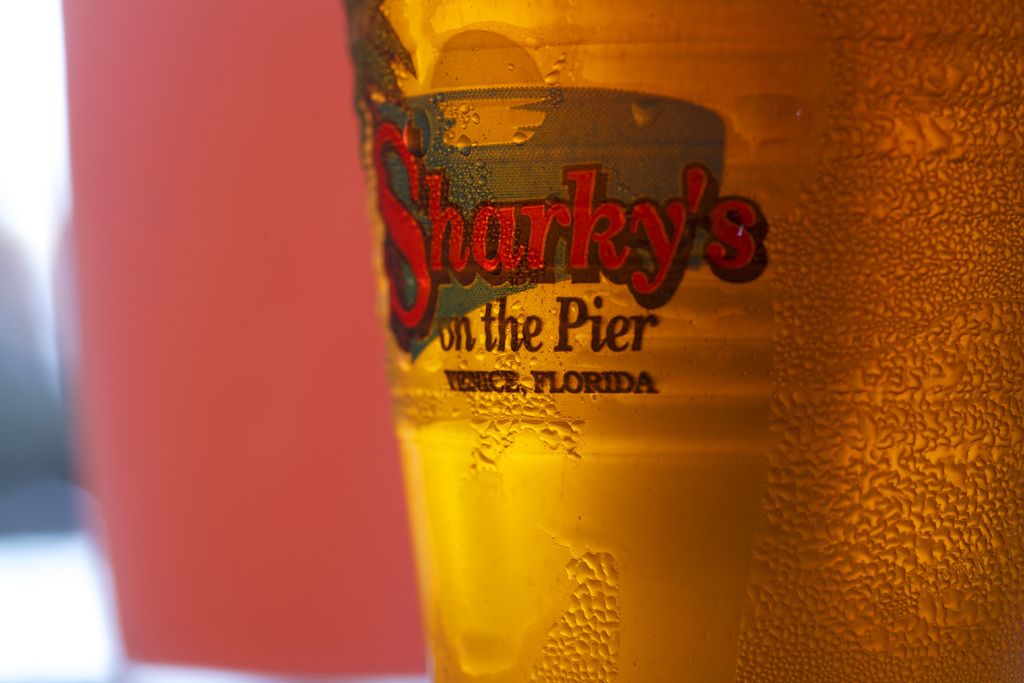Beer: (325, 0, 1023, 682)
